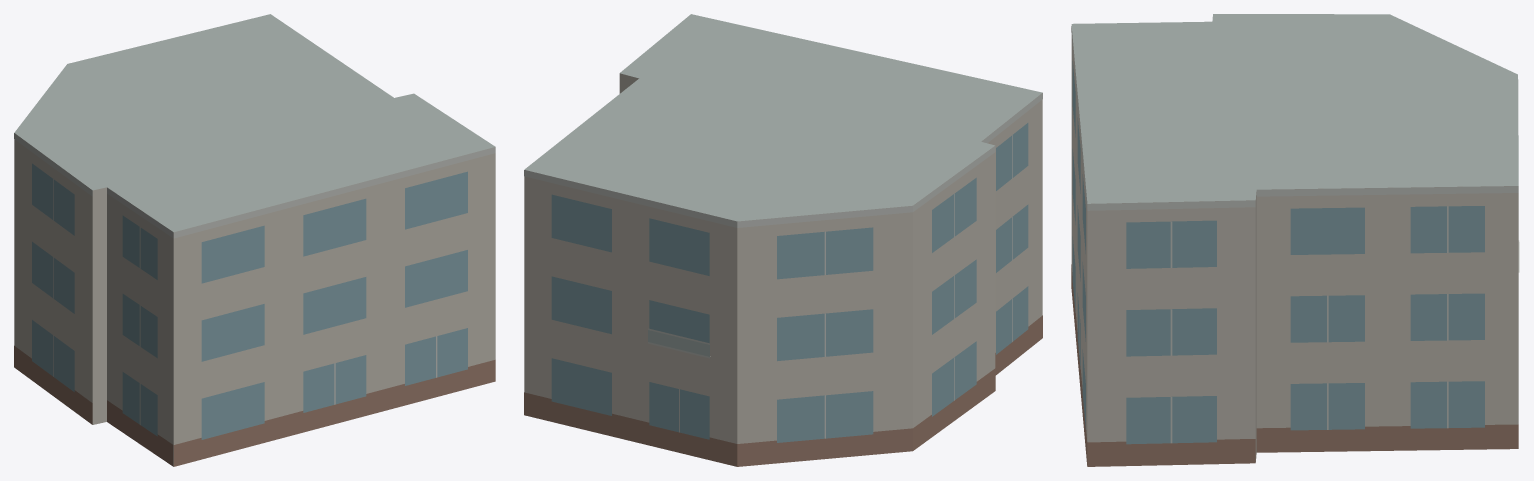
File: survey-upis-32836765.glb
3 renders of one model, left to right at view 1: azimuth 30°, elevation 25°; view 2: azimuth 150°, elevation 25°; view 3: azimuth 270°, elevation 25°, orthographic. The views are drawn at different scales.
Visible parts, largest first — view 1: survey-upis-32836765.tmp; view 2: survey-upis-32836765.tmp; view 3: survey-upis-32836765.tmp.
Part boxes in pixels (left/top/right/bottom): survey-upis-32836765.tmp: left=14, top=14, right=495, bottom=466; survey-upis-32836765.tmp: left=524, top=14, right=1042, bottom=466; survey-upis-32836765.tmp: left=1071, top=14, right=1519, bottom=466.
Bounding box in the file's own units: 14.17 × 9.15 × 14.14.
